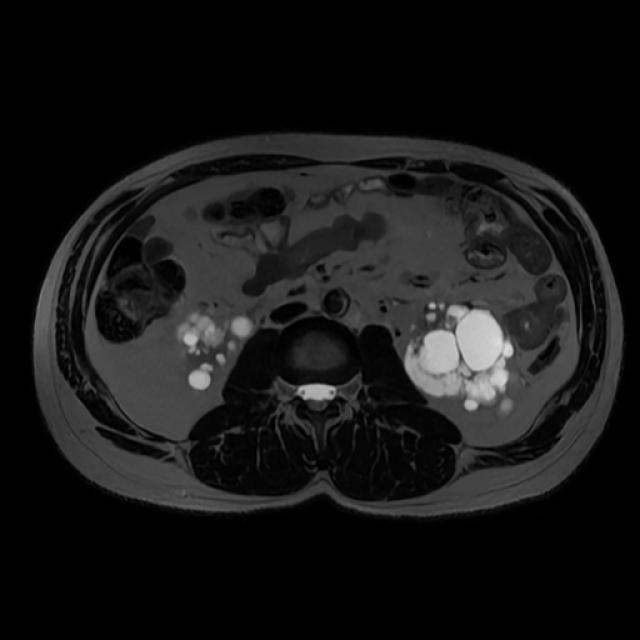sag: (180, 313, 254, 389)
sol: (405, 300, 514, 412)
